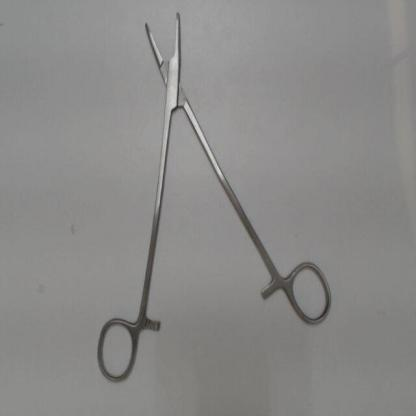8 Mayo Needle Holder: (91, 3, 337, 391)
